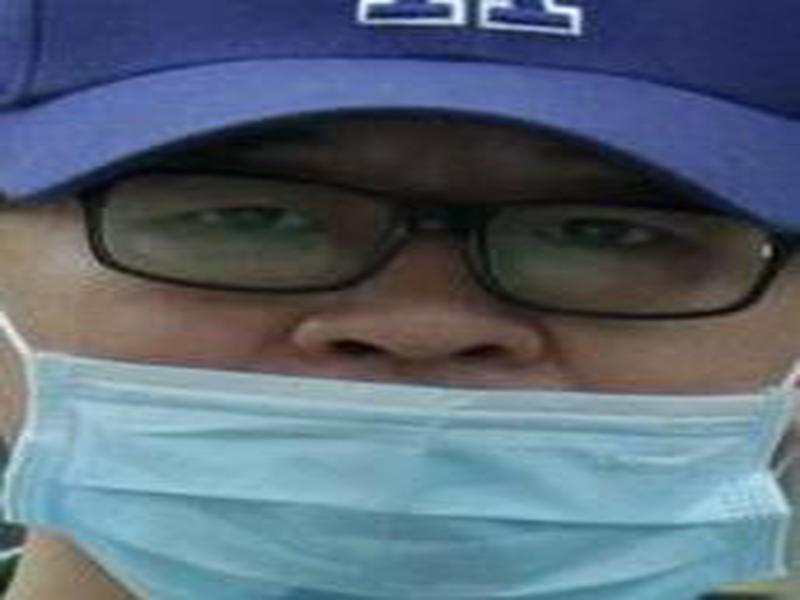with_mask: (1, 123, 800, 600)
